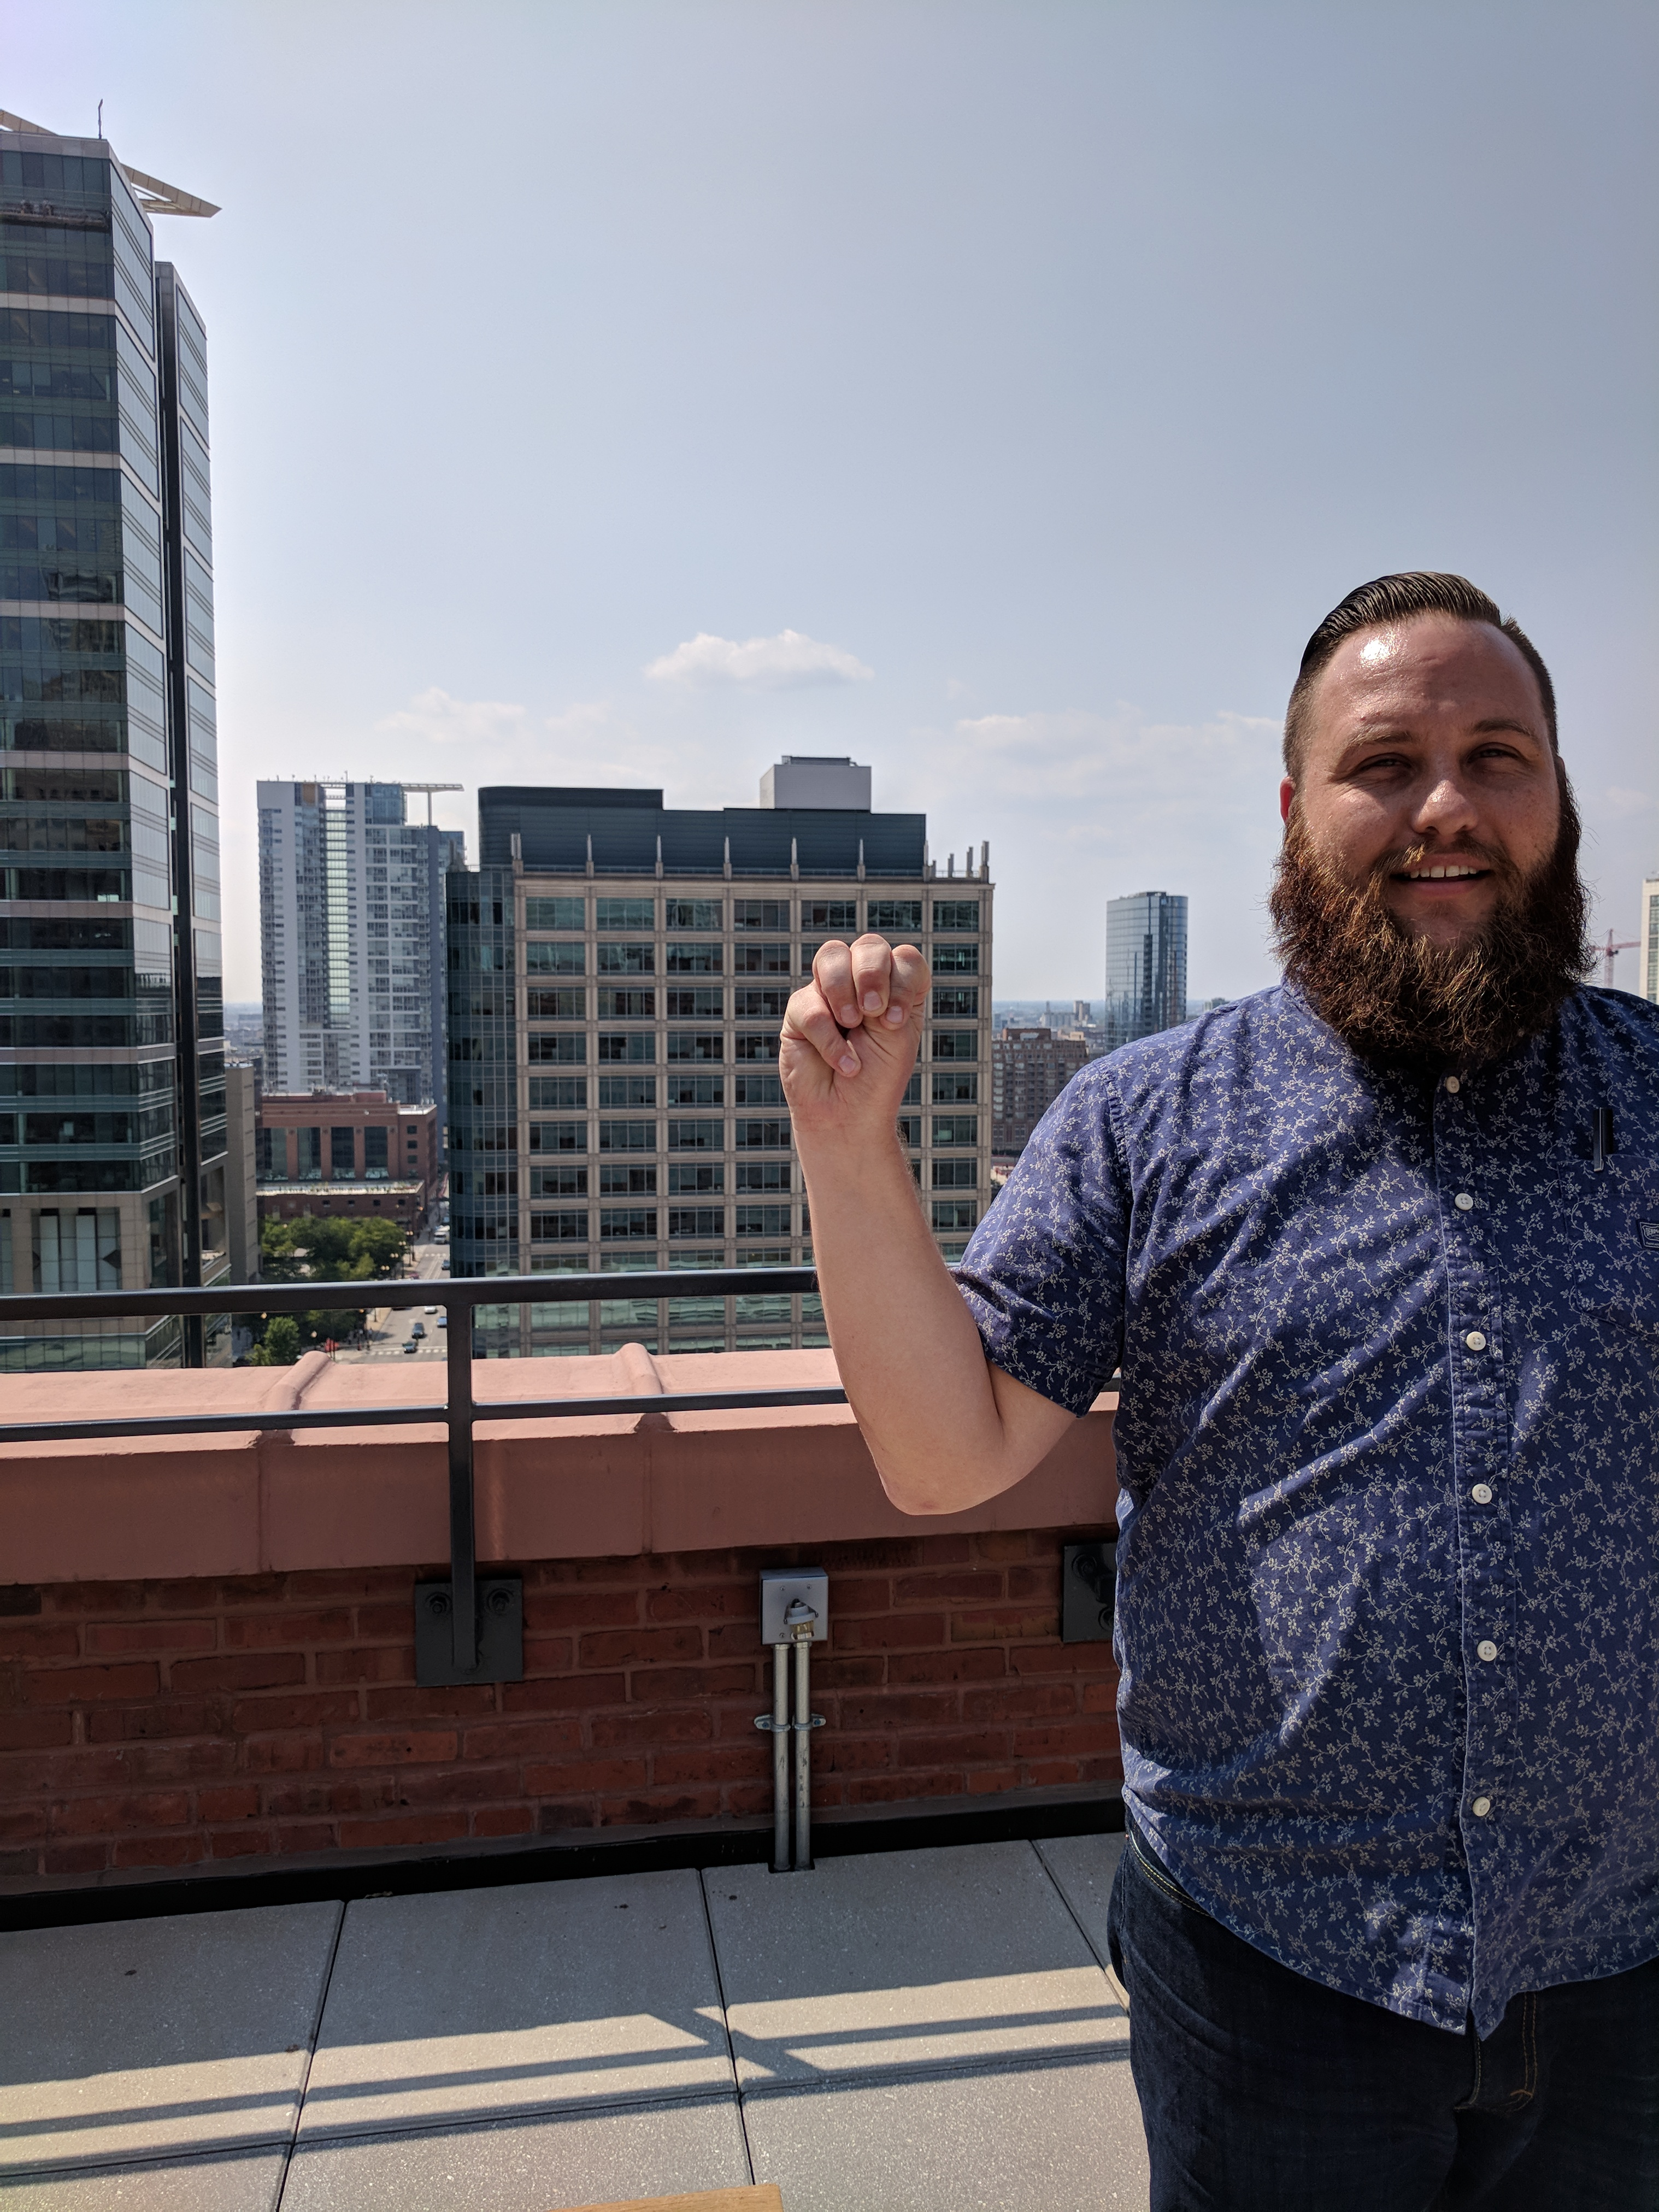m: (767, 927, 938, 1136)
